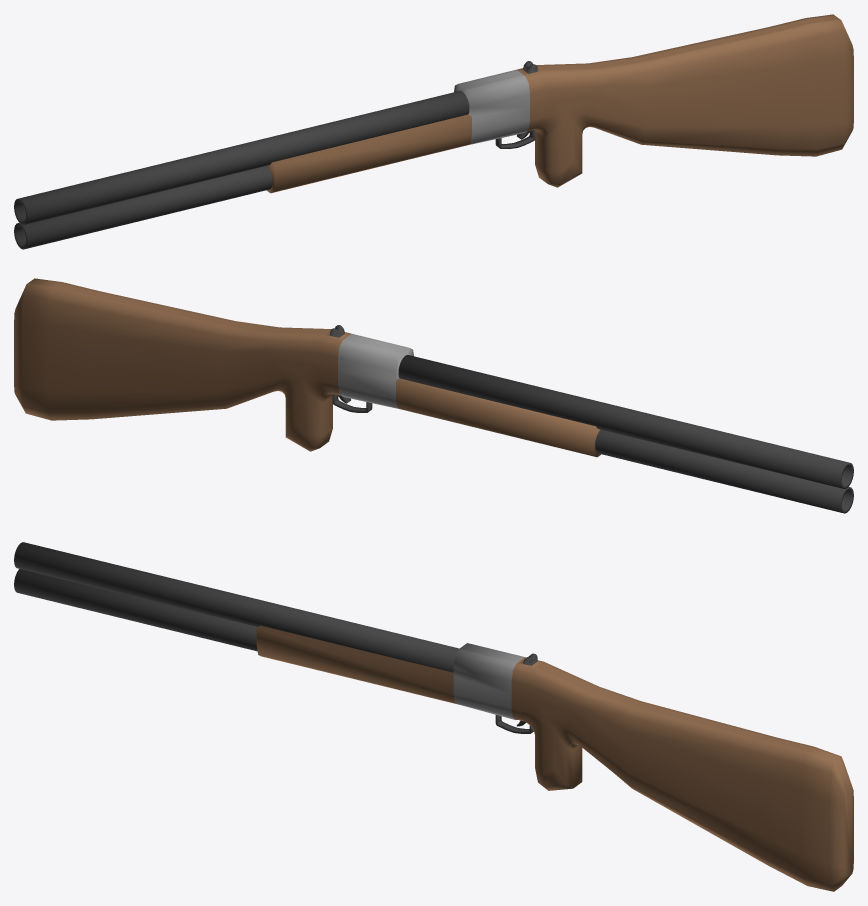
The model's file is gun.fbx.
The picture shows the model from 3 angles, top to bottom: view 1: azimuth 30°, elevation 25°; view 2: azimuth 150°, elevation 25°; view 3: azimuth 330°, elevation 25°; orthographic projection.
Parts seen in each view (by area): view 1: Cube.007; view 2: Cube.007; view 3: Cube.007.
Boxes of the visible parts, left/top/right/bottom form: Cube.007: left=14, top=14, right=853, bottom=249; Cube.007: left=14, top=278, right=853, bottom=513; Cube.007: left=14, top=542, right=853, bottom=891.
Bounding box in the file's own units: 1.22 × 0.2238 × 0.0472.
